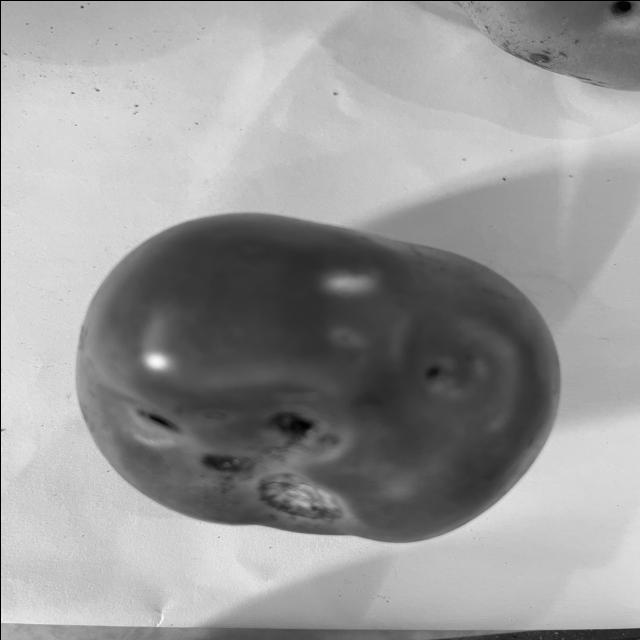fruitworm_bore: (188, 412, 336, 486), (109, 394, 182, 450), (402, 351, 452, 398)
